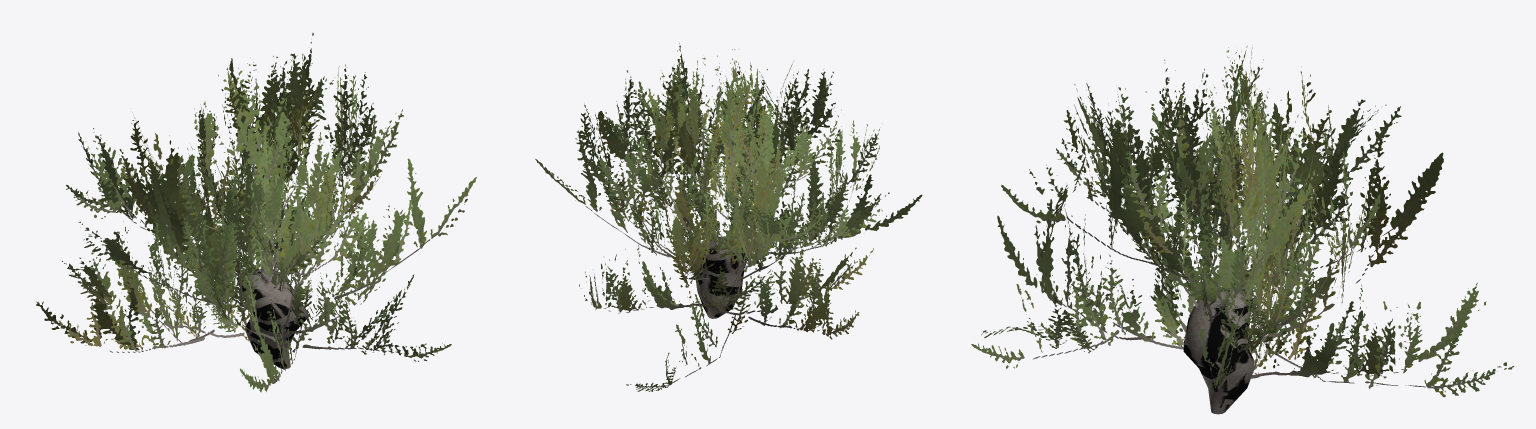
The model's file is tamaris-b.glb.
The picture shows the model from 3 angles, left to right: view 1: azimuth 30°, elevation 25°; view 2: azimuth 150°, elevation 25°; view 3: azimuth 270°, elevation 25°; orthographic projection. The views are drawn at different scales.
Parts seen in each view (by area): view 1: tamaris-b; view 2: tamaris-b; view 3: tamaris-b.
Boxes of the visible parts, box(x1,y1,x2,y2) form: tamaris-b: box(36, 33, 476, 392); tamaris-b: box(535, 43, 922, 391); tamaris-b: box(971, 45, 1514, 414).
Bounding box in the file's own units: 3.1 × 2.38 × 2.99.
2 materials, 2 textured.
